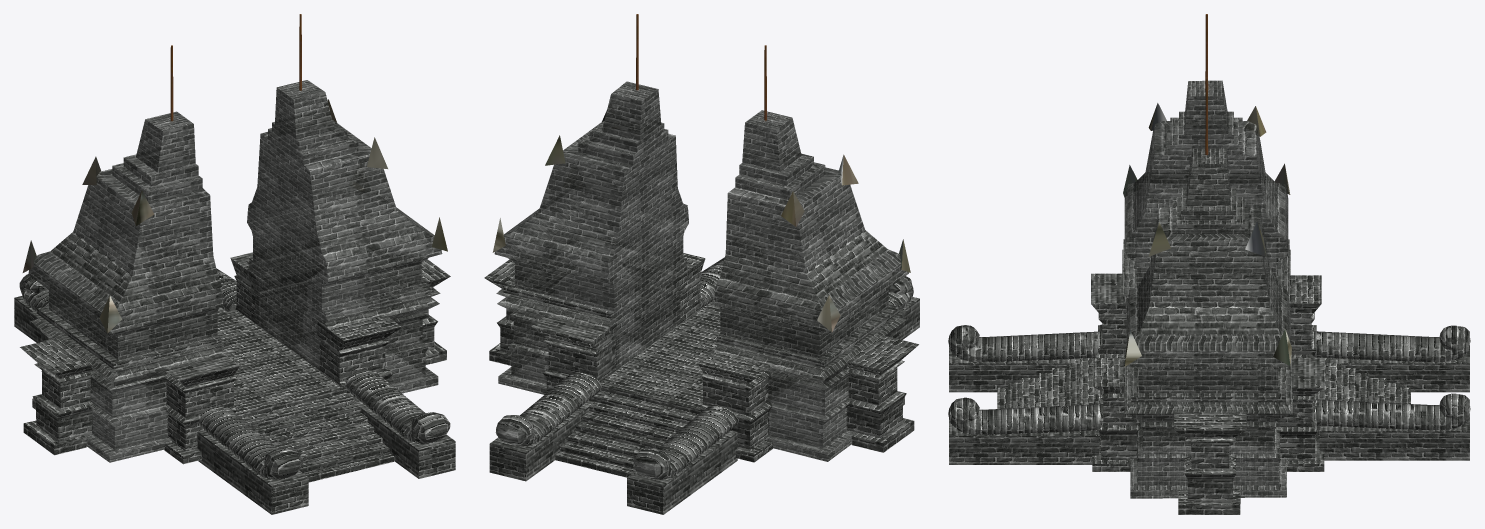
The model's file is gapura.fbx.
3 renders of one model, left to right at view 1: azimuth 30°, elevation 25°; view 2: azimuth 150°, elevation 25°; view 3: azimuth 270°, elevation 25°, orthographic.
Parts seen in each view (by area): view 1: 1i; view 2: 1i; view 3: 1i.
Part boxes in pixels (<box>): 1i: <box>14,14,455,514</box>; 1i: <box>484,14,919,514</box>; 1i: <box>948,14,1470,514</box>.
Bounding box in the file's own units: 2167 × 1919 × 2433.
Materials: 13 (13 with a texture image).
